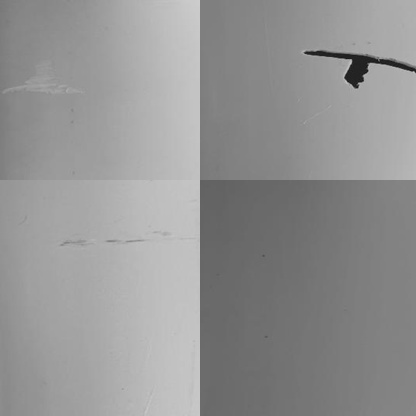fengxi: (301, 46, 413, 68)
kongdong: (343, 59, 373, 92)
sunshang: (4, 60, 83, 100)
